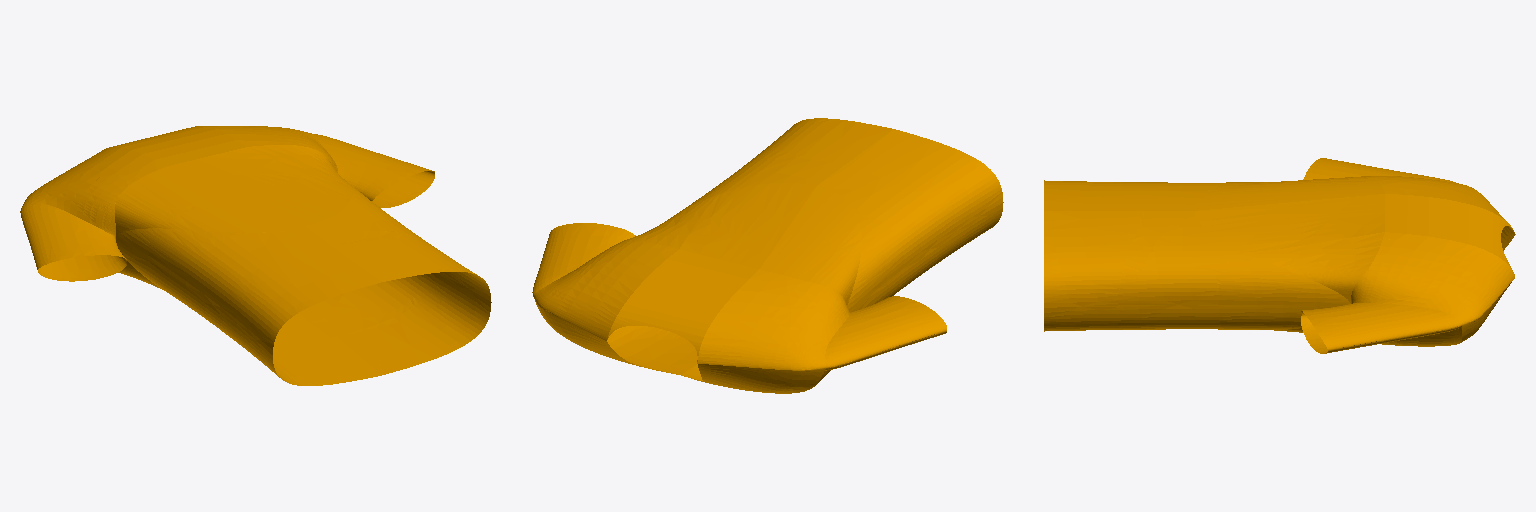
robot.urdf — clothes_white:
<?xml version="1.0"?>
<robot name="clothes_white">

<link name="base_link">

  <collision>
    <origin xyz="0 0 0" rpy="0 0 0"/>
    <geometry>
      <mesh filename="package://ur_description/meshes/objects/visual/shirt1.dae"/>
    </geometry>
  </collision>

  <visual>
    <origin xyz="0 0 0" rpy="0 0 0"/>
    <geometry>
      <mesh filename="package://ur_description/meshes/objects/visual/shirt1.dae"/>
    </geometry>
  </visual>

  <inertial>
   <origin xyz="0 0 0" rpy="0 0 0"/>
   <mass value="0.0225" />
   <inertia
      ixx="0.00000379215" ixy="0.0"  ixz="0.0"
      iyy="0.00000379215" iyz="0.0"  izz="0.00000379215" />
  </inertial>

</link>

<gazebo reference="base_link">
  <mu1>100</mu1>
  <mu2>100</mu2>
  <kp>2147483647</kp>
  <kd>1</kd>
  <maxVel>0</maxVel>
  <minDepth>0.001</minDepth>
  <material>Gazebo/Red</material>
</gazebo>

</robot>

--- Facts derived from the render (not from the file) ---
3 views of the same robot in one strip: view 1: azimuth 30°, elevation 25°; view 2: azimuth 150°, elevation 25°; view 3: azimuth 270°, elevation 25° (orthographic).
Model clothes_white with 1 links and 0 joints (none), rooted at base_link, posed all joints at 0.
Visible links, largest first — view 1: base_link; view 2: base_link; view 3: base_link.
Link boxes in pixels (<box>): base_link: <box>20,126,491,385</box>; base_link: <box>532,118,1003,393</box>; base_link: <box>1044,158,1515,353</box>.
Bounding box of the posed robot: 0.1515 × 0.1596 × 0.0342 m (x, y, z).
1 mesh visuals loaded from 1 distinct referenced files (1 Collada DAE).
